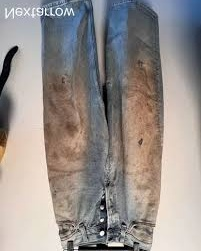earth: (129, 74, 156, 186), (46, 95, 80, 172)
